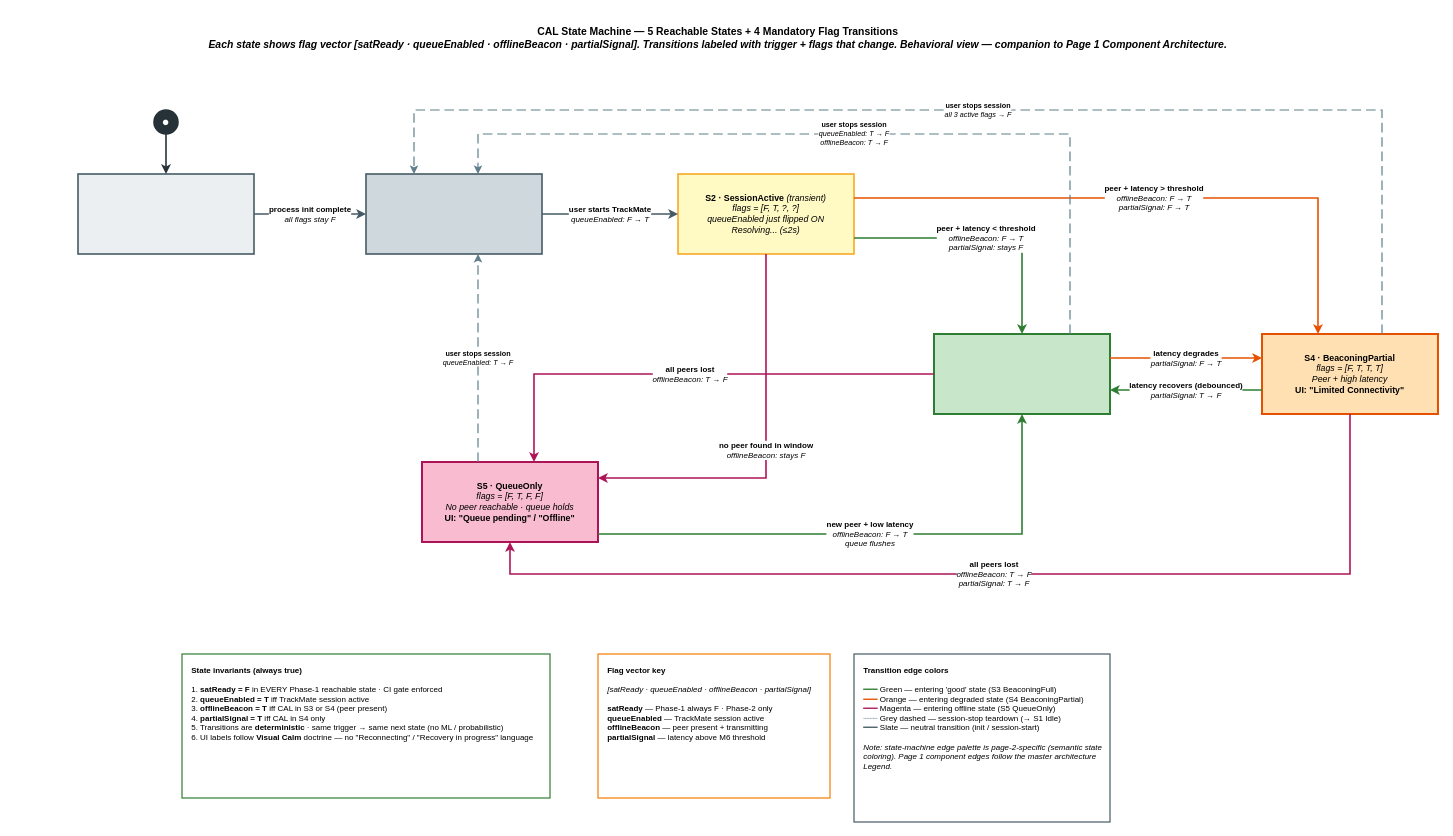
Some shapes in this 1453 by 836 pixel diagram are drawn without their labels. The centre of each missing label's shape, as x and y in pixels:
S0 · AppLaunch flags = [F, F, F, F] Pre-session · CAL initialized: the point at 165,213
S1 · Idle flags = [F, F, F, F] TrackMate not running UI: hidden: the point at 453,213
S3 · BeaconingFull flags = [F, T, T, F] Peer + low latency UI: "Beacon active": the point at 1022,374
